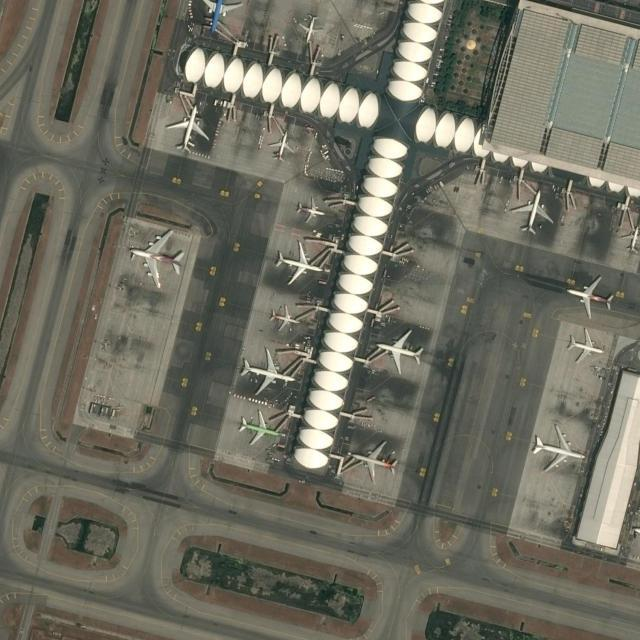Aircraft: (128, 225, 186, 287), (240, 346, 296, 394), (532, 422, 586, 470), (375, 327, 425, 375), (165, 102, 210, 154), (273, 238, 323, 284), (348, 436, 396, 483), (566, 272, 614, 318), (513, 188, 555, 236), (237, 406, 283, 444), (195, 0, 241, 33), (567, 328, 603, 361), (296, 11, 322, 43), (293, 197, 325, 223), (268, 303, 298, 329), (269, 130, 293, 162), (621, 221, 640, 252)
